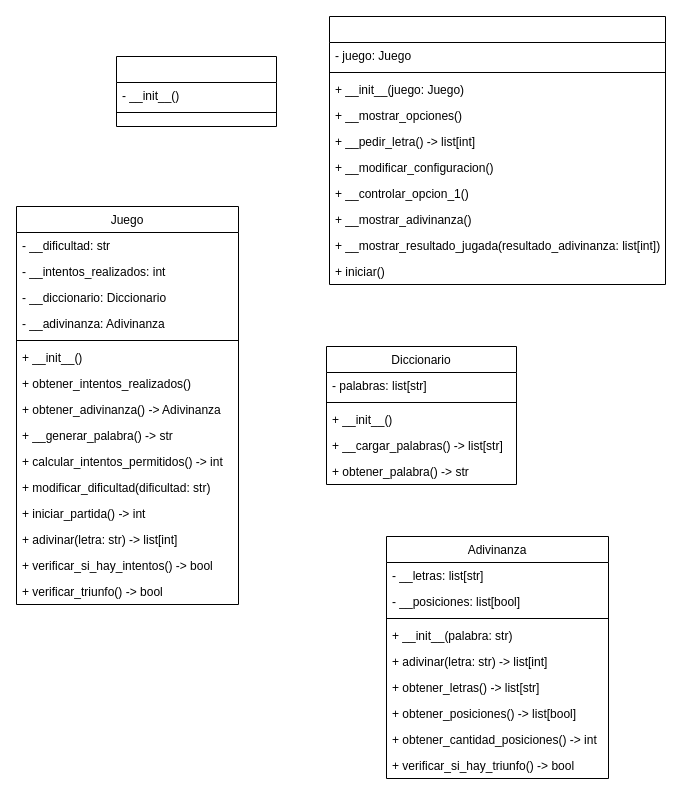
Some shapes in this 682 by 795 pixel diagram are drawn without their labels. Each missing label, with the box of its shape:
ErrorIntentosInsuficientes: (116, 56, 276, 126)
Menu: (328, 16, 666, 284)
